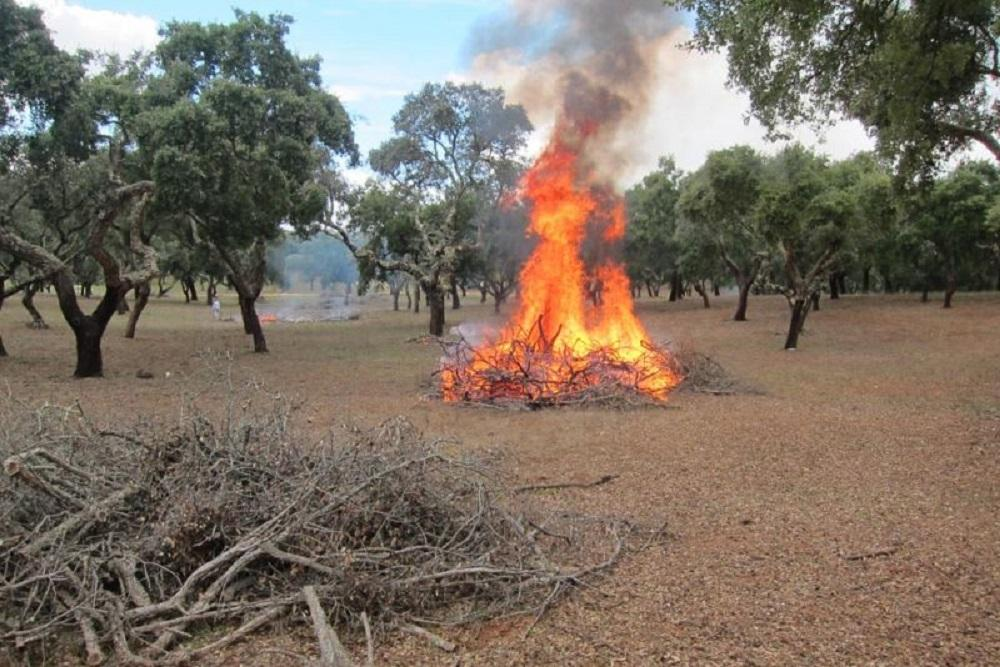Fire: (441, 158, 677, 399)
